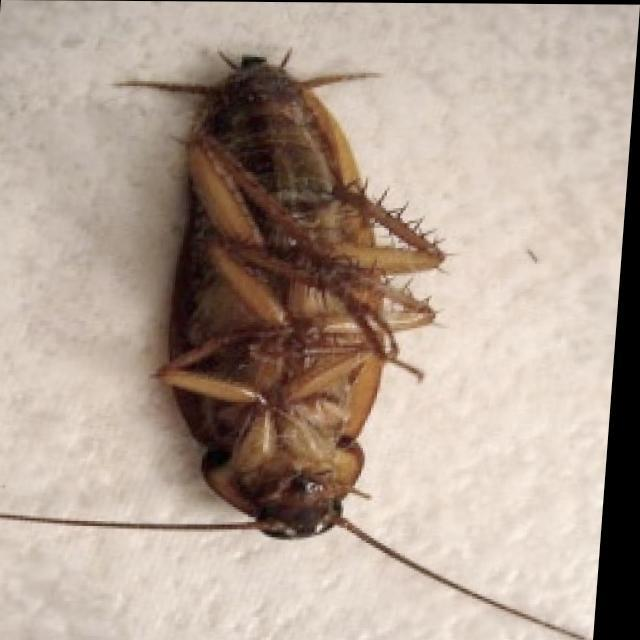cockroach: (109, 43, 454, 543)
